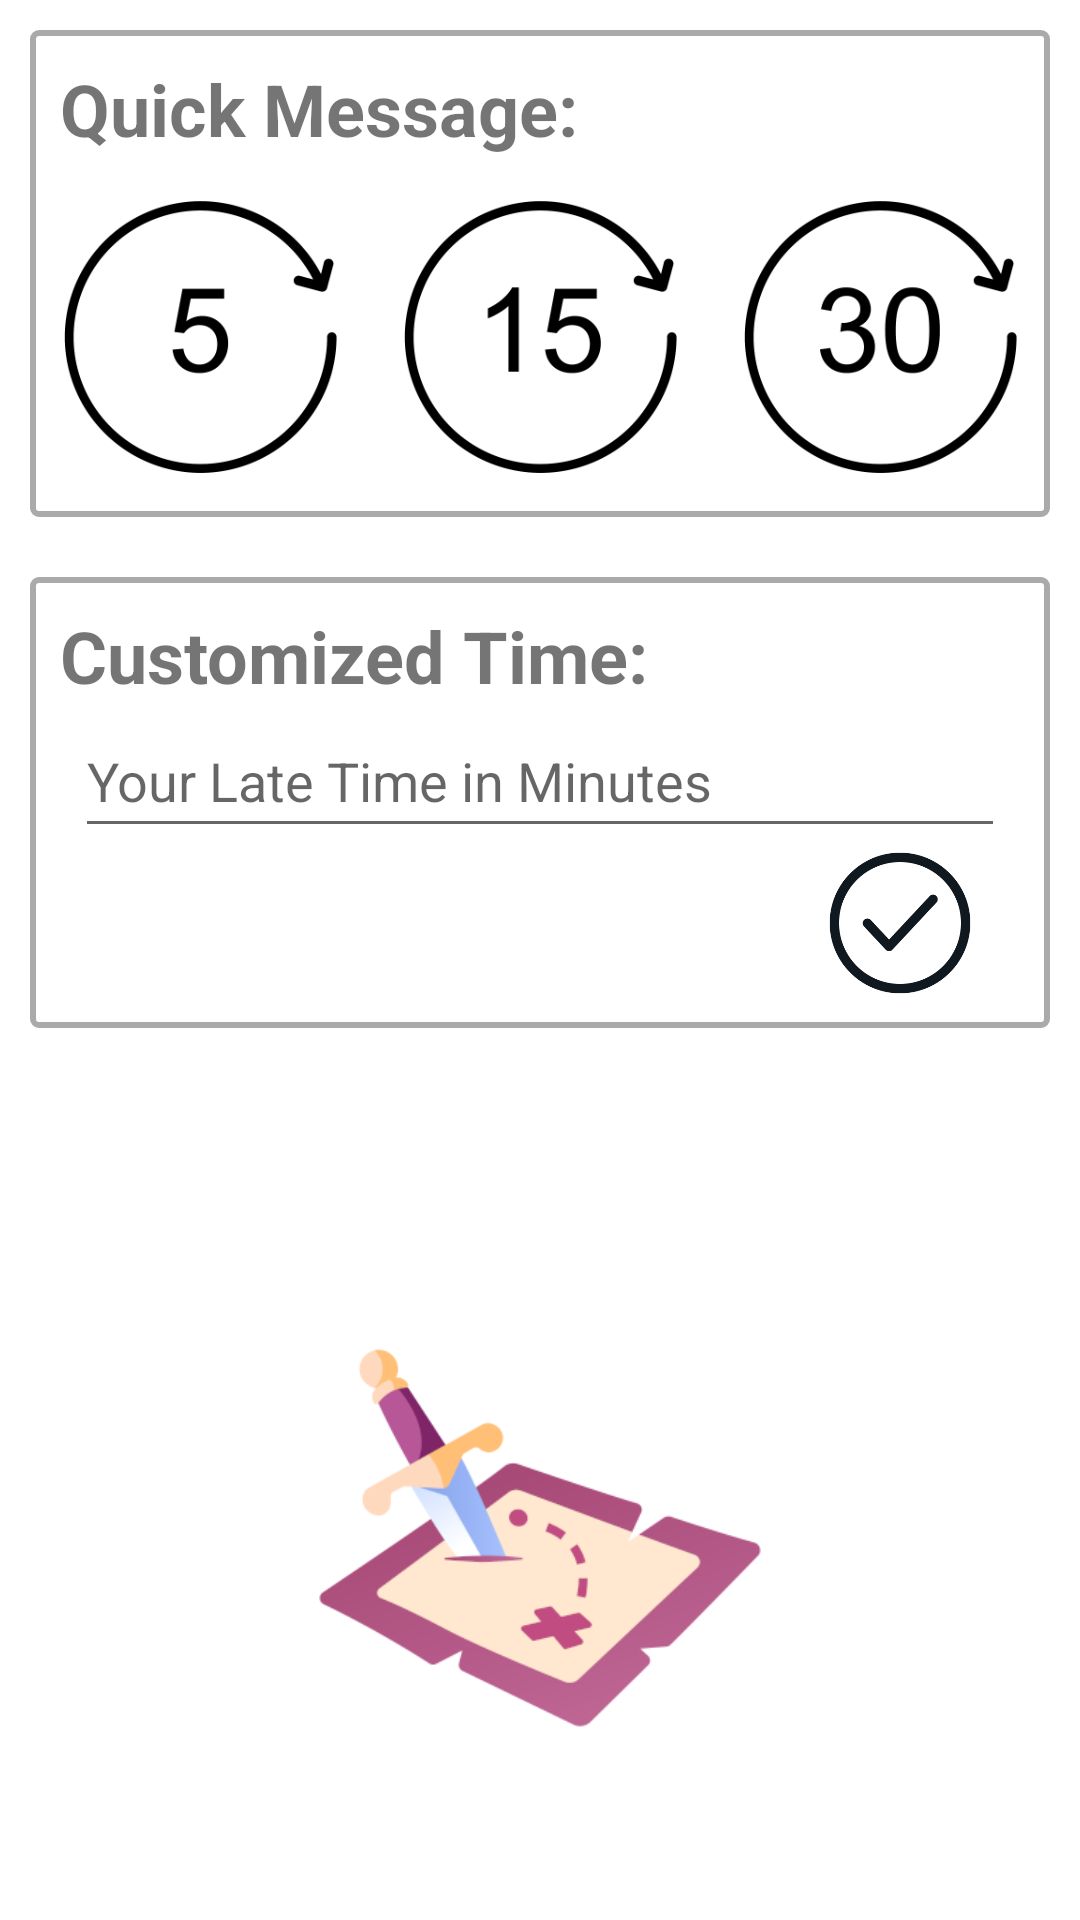

Named icons in this screenshot (1080w x 1920h) and their bounding boxes, (x1, y1, x2, y2):
Confirm: (830, 853, 970, 993)
Fifteen Minutes: (404, 201, 677, 473)
Five Minutes: (64, 201, 337, 473)
Thirty Minutes: (744, 201, 1017, 473)
